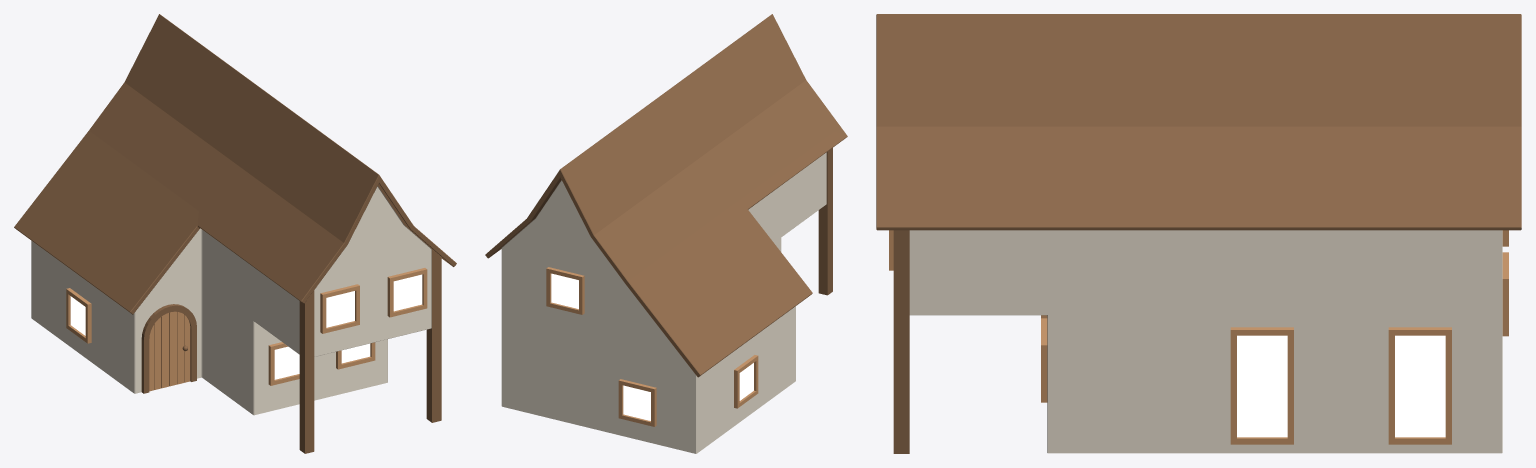
Rendered from SM_Tailor_01.fbx.
The picture shows the model from 3 angles, left to right: view 1: azimuth 30°, elevation 25°; view 2: azimuth 150°, elevation 25°; view 3: azimuth 270°, elevation 25°; orthographic projection. The views are drawn at different scales.
Visible parts, largest first — view 1: SM_Tailor_01, Cube.004, DoorCurved_01.003, WindowSmall_01.017, WindowSmall_01.016, WindowSmall_01.018, WindowSmall_01.013, WindowSmall_01.019; view 2: SM_Tailor_01, Cube.004, WindowSmall_01.014, WindowSmall_01.015, WindowSmall_01.013; view 3: SM_Tailor_01, WindowTall_01.004, WindowTall_01.005, Cube.004.
Part boxes in pixels (x1=…): SM_Tailor_01: x1=14, y1=14, x2=456, y2=415; Cube.004: x1=299, y1=249, x2=441, y2=453; DoorCurved_01.003: x1=141, y1=304, x2=196, y2=393; WindowSmall_01.017: x1=387, y1=268, x2=427, y2=317; WindowSmall_01.016: x1=320, y1=284, x2=359, y2=333; WindowSmall_01.018: x1=268, y1=342, x2=299, y2=385; WindowSmall_01.013: x1=66, y1=288, x2=91, y2=343; WindowSmall_01.019: x1=336, y1=342, x2=375, y2=369; SM_Tailor_01: x1=485, y1=14, x2=847, y2=453; Cube.004: x1=818, y1=148, x2=832, y2=295; WindowSmall_01.014: x1=618, y1=379, x2=656, y2=426; WindowSmall_01.015: x1=546, y1=267, x2=584, y2=314; WindowSmall_01.013: x1=734, y1=355, x2=758, y2=408; SM_Tailor_01: x1=876, y1=14, x2=1521, y2=453; WindowTall_01.004: x1=1230, y1=327, x2=1293, y2=444; WindowTall_01.005: x1=1388, y1=327, x2=1451, y2=444; Cube.004: x1=893, y1=230, x2=909, y2=453.
Bounding box in the file's own units: 597 × 682 × 1020.
